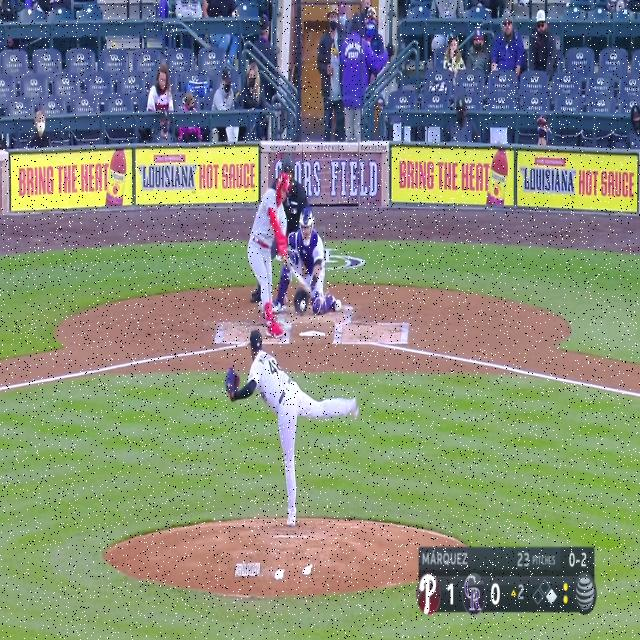baseball: (298, 298, 306, 313)
